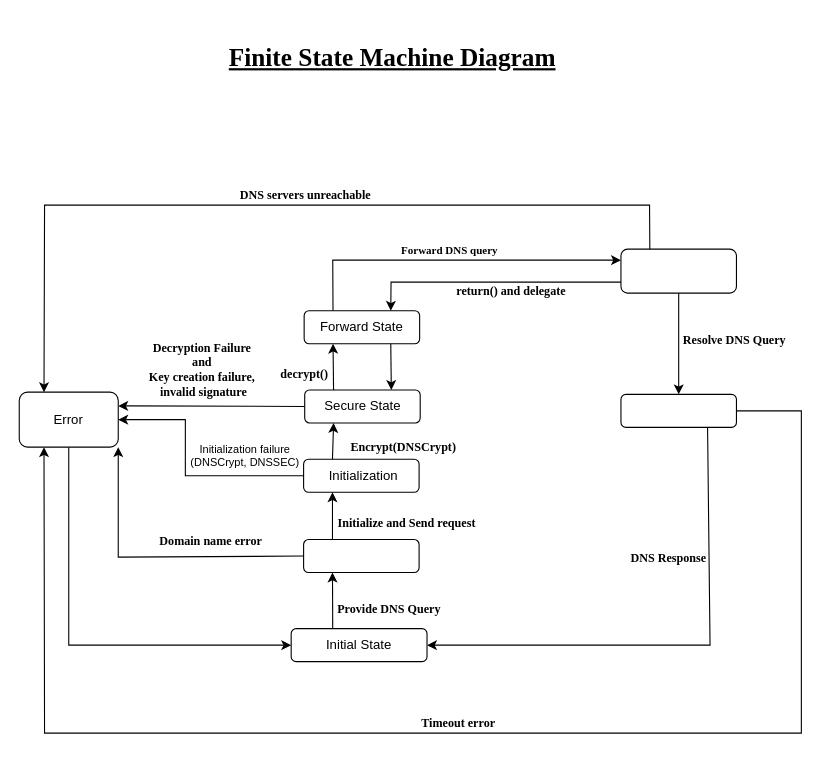
This 829x761 diagram has some shape labels left out. The centre of each missing label's shape, as x and y in pixels:
"Delagate State" belongs at [678,270].
"Query State" belongs at [360,555].
"Resolution State" belongs at [678,410].
